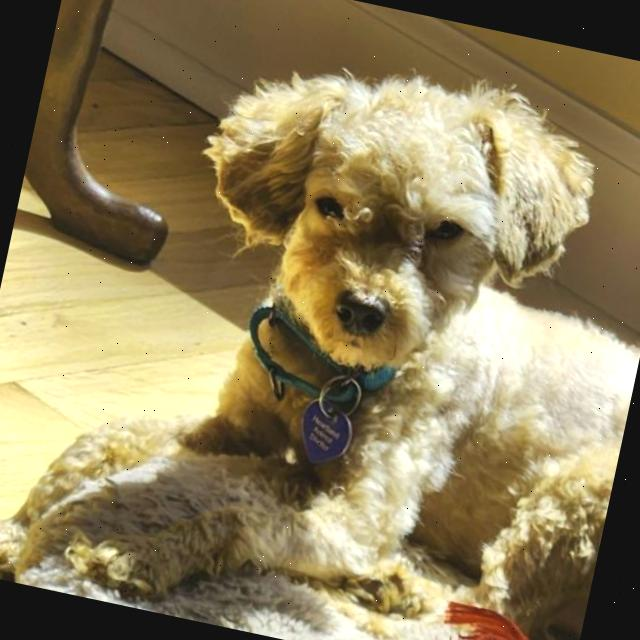Poodle_dog: (140, 8, 630, 432)
